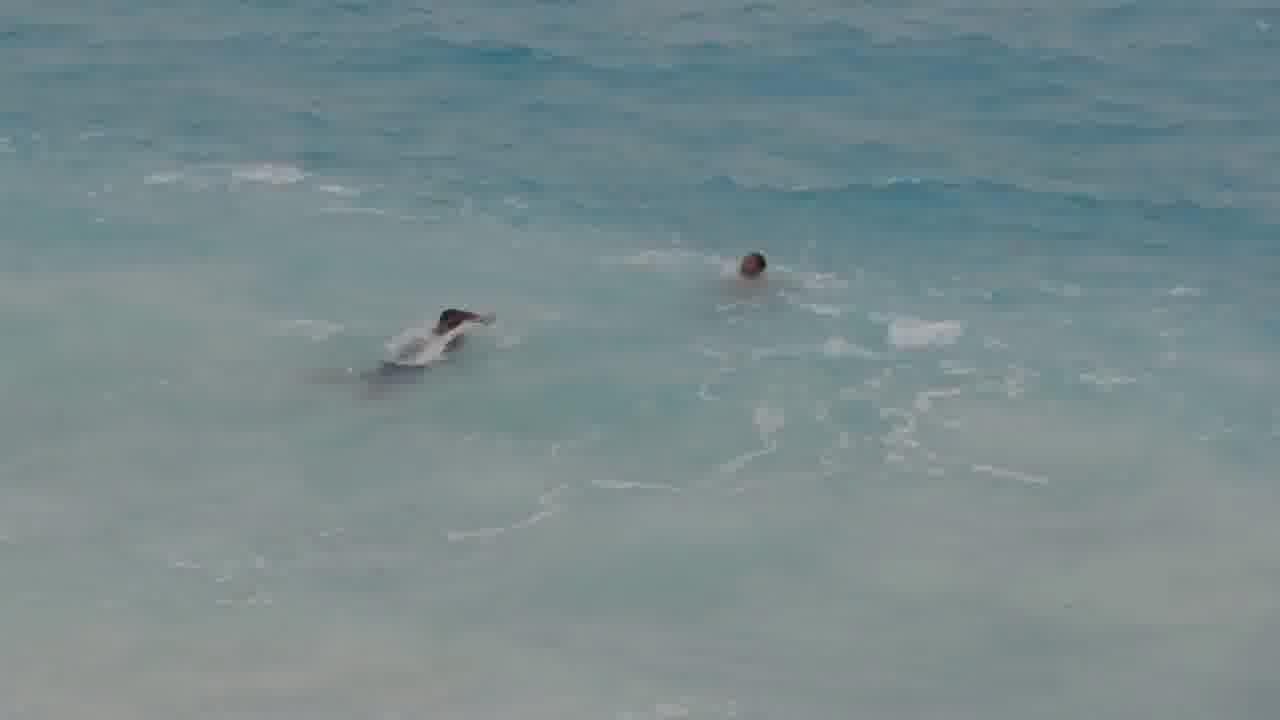swimmer: (416, 300, 485, 364), (720, 246, 778, 287)
